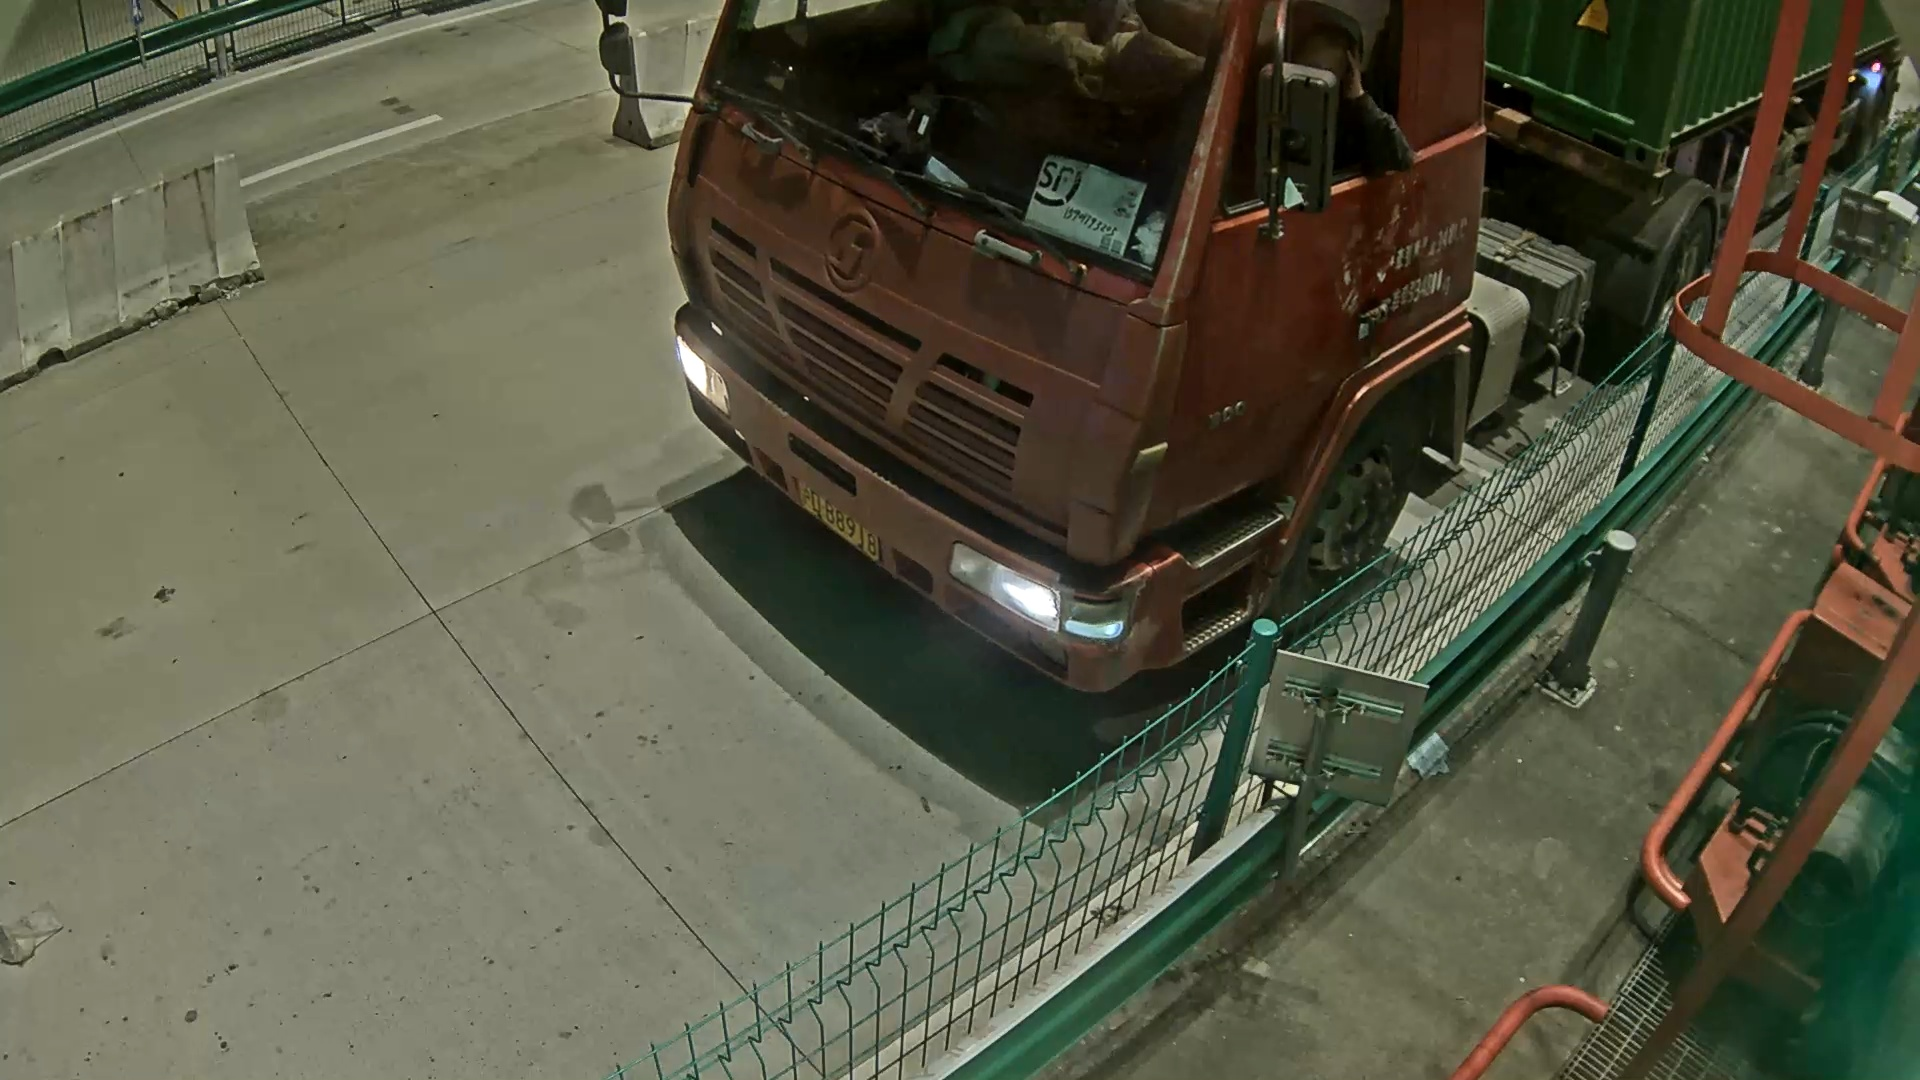head: (670, 1, 1490, 699)
plate: (791, 480, 884, 565)
